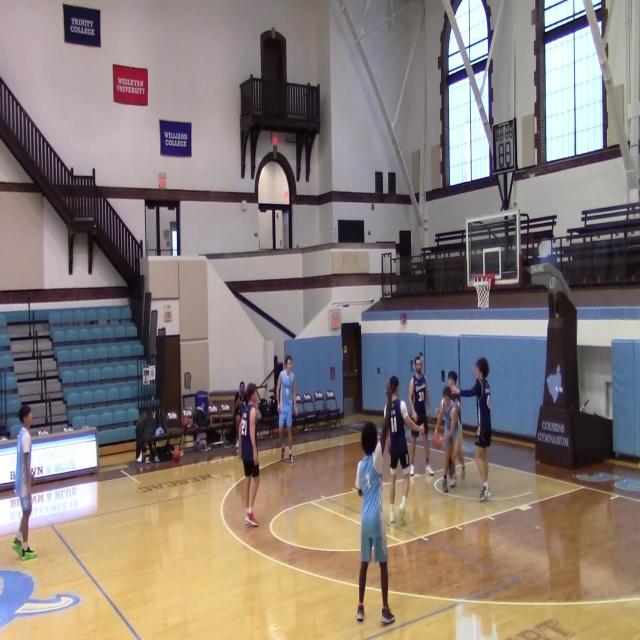Basketball: (432, 433, 444, 448), (172, 448, 181, 462)
